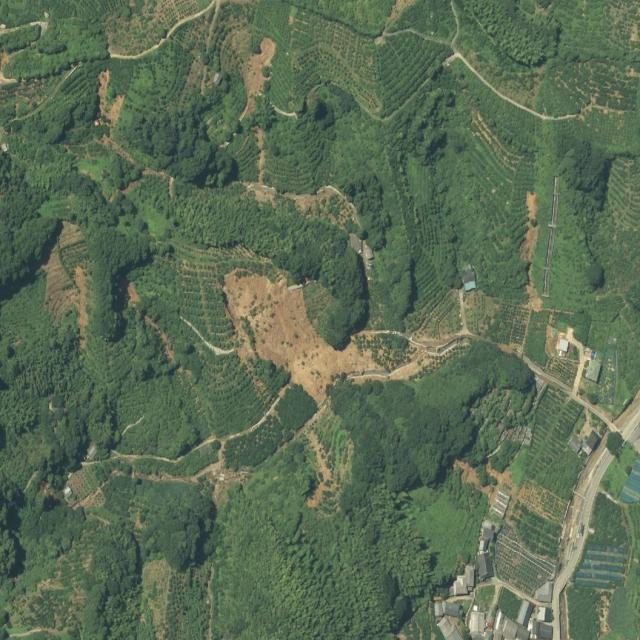landslide: (216, 263, 378, 417), (42, 222, 90, 348), (108, 4, 212, 59), (222, 27, 276, 127), (280, 184, 359, 230), (96, 69, 133, 167), (242, 123, 275, 206)
